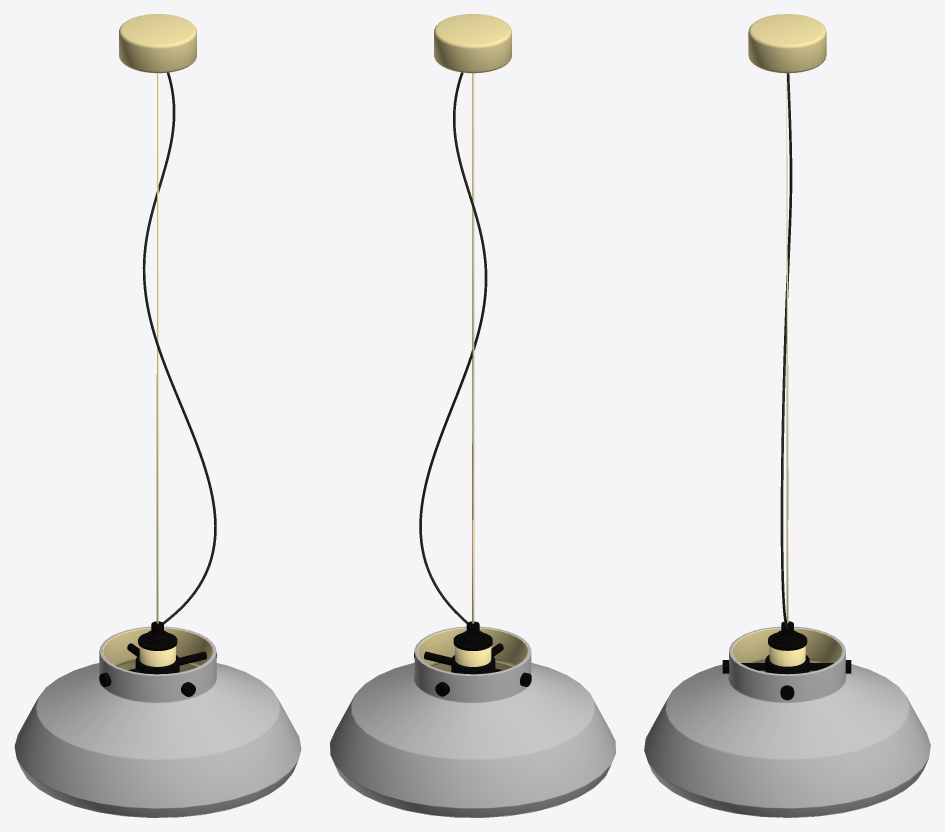
File: bongden.fbx
The picture shows the model from 3 angles, left to right: view 1: azimuth 30°, elevation 25°; view 2: azimuth 150°, elevation 25°; view 3: azimuth 270°, elevation 25°; orthographic projection.
Parts seen in each view (by area): view 1: Lampatron ZIEL01.001, Lampatron ZIEL01; view 2: Lampatron ZIEL01.001, Lampatron ZIEL01; view 3: Lampatron ZIEL01.001, Lampatron ZIEL01.
Part boxes in pixels (x1,y1,x2,y2): Lampatron ZIEL01.001: (14,626,301,817); Lampatron ZIEL01: (24,14,292,817); Lampatron ZIEL01.001: (330,626,615,817); Lampatron ZIEL01: (337,14,610,817); Lampatron ZIEL01.001: (644,626,930,817); Lampatron ZIEL01: (651,14,923,817).
Size of the model in its own units: 36.58 by 103 by 36.58.
